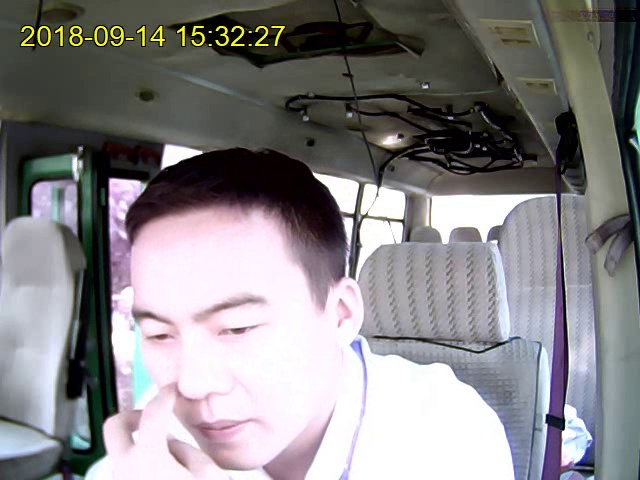closed_mouth: (189, 415, 255, 442)
open_eye: (214, 321, 264, 338), (144, 331, 177, 346)
